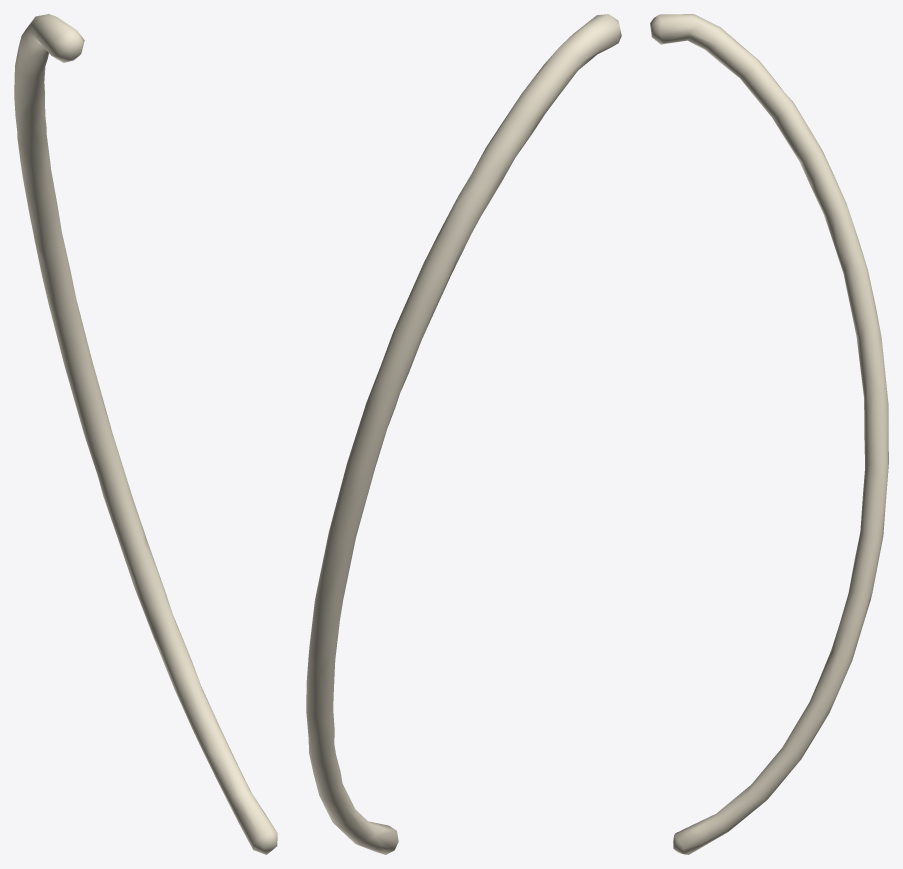
Rendered from rib_6_r.glb.
The picture shows the model from 3 angles, left to right: view 1: azimuth 30°, elevation 25°; view 2: azimuth 150°, elevation 25°; view 3: azimuth 270°, elevation 25°; orthographic projection. The views are drawn at different scales.
Visible parts, largest first — view 1: geometry_0; view 2: geometry_0; view 3: geometry_0.
Part boxes in pixels (box(x1,y1,x2,y2)): geometry_0: box(14, 14, 277, 854); geometry_0: box(306, 14, 621, 854); geometry_0: box(650, 14, 888, 854).
Size of the model in its own units: 0.3675 by 1.31 by 0.3764.
